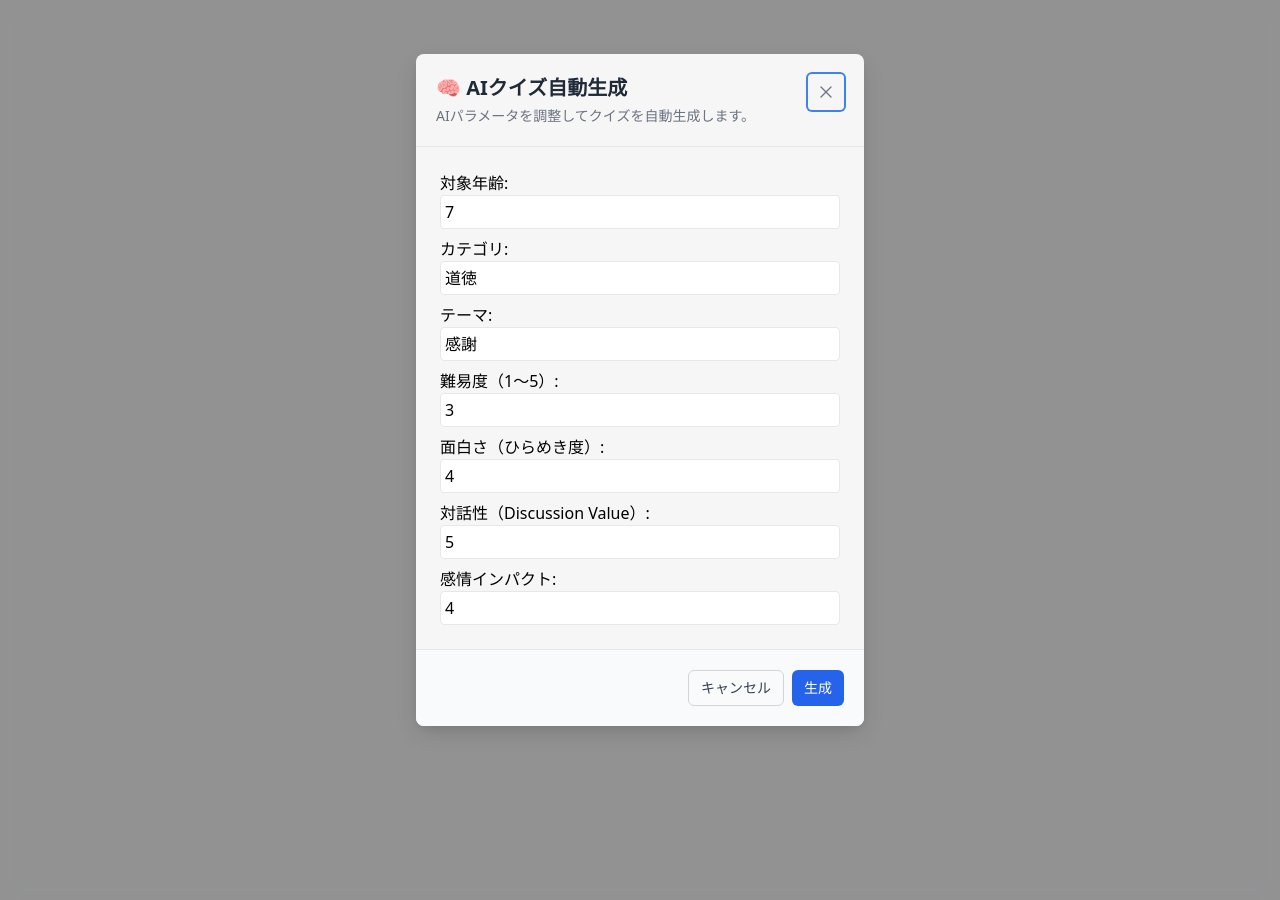
it: AiQuizGeneratorModal › エラー時にメッセージ表示
Click the button "生成" at coordinates (818, 688), box [792,670,844,706]
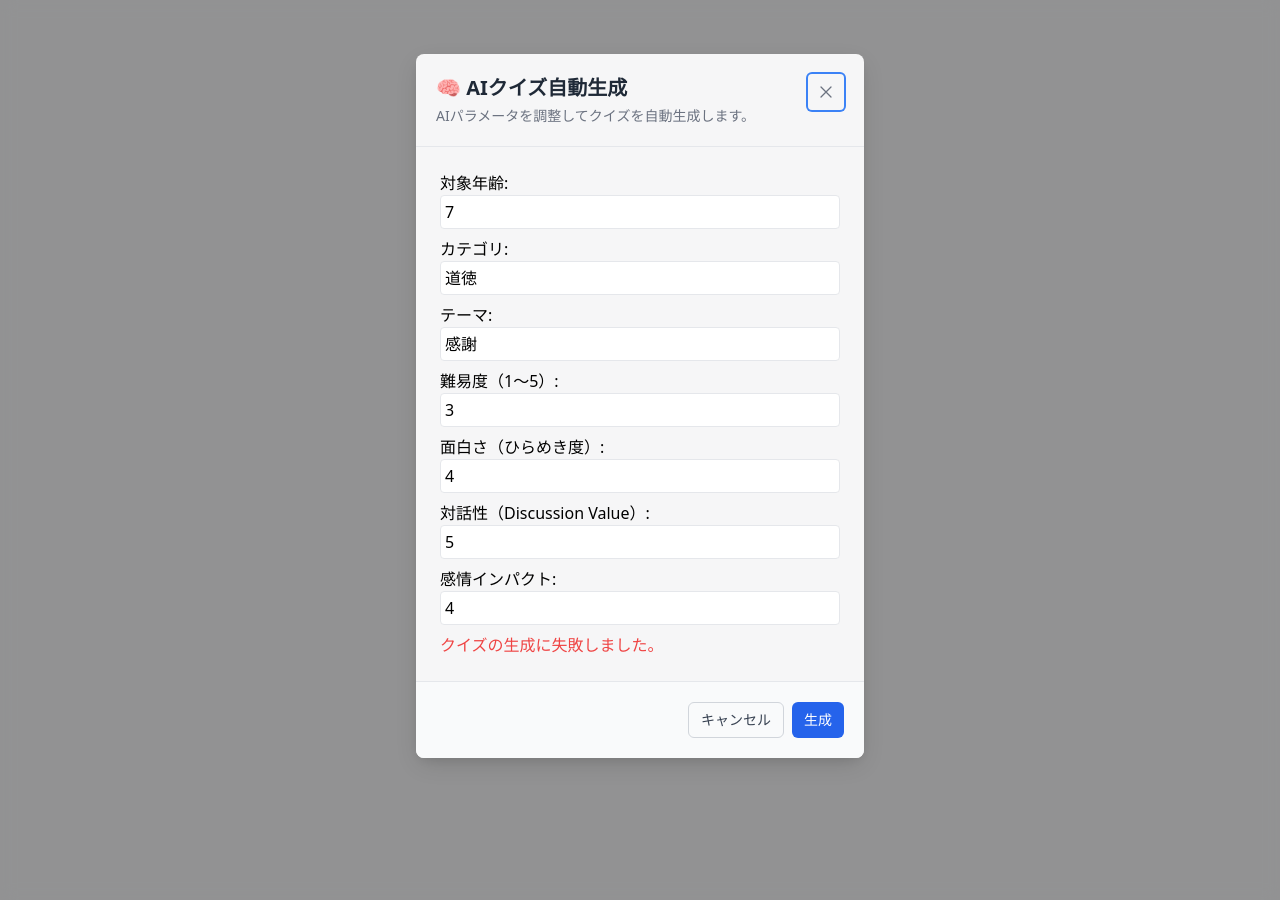
Expected: the text "クイズの生成に失敗しました。" is shown, [440,634,664,656]
